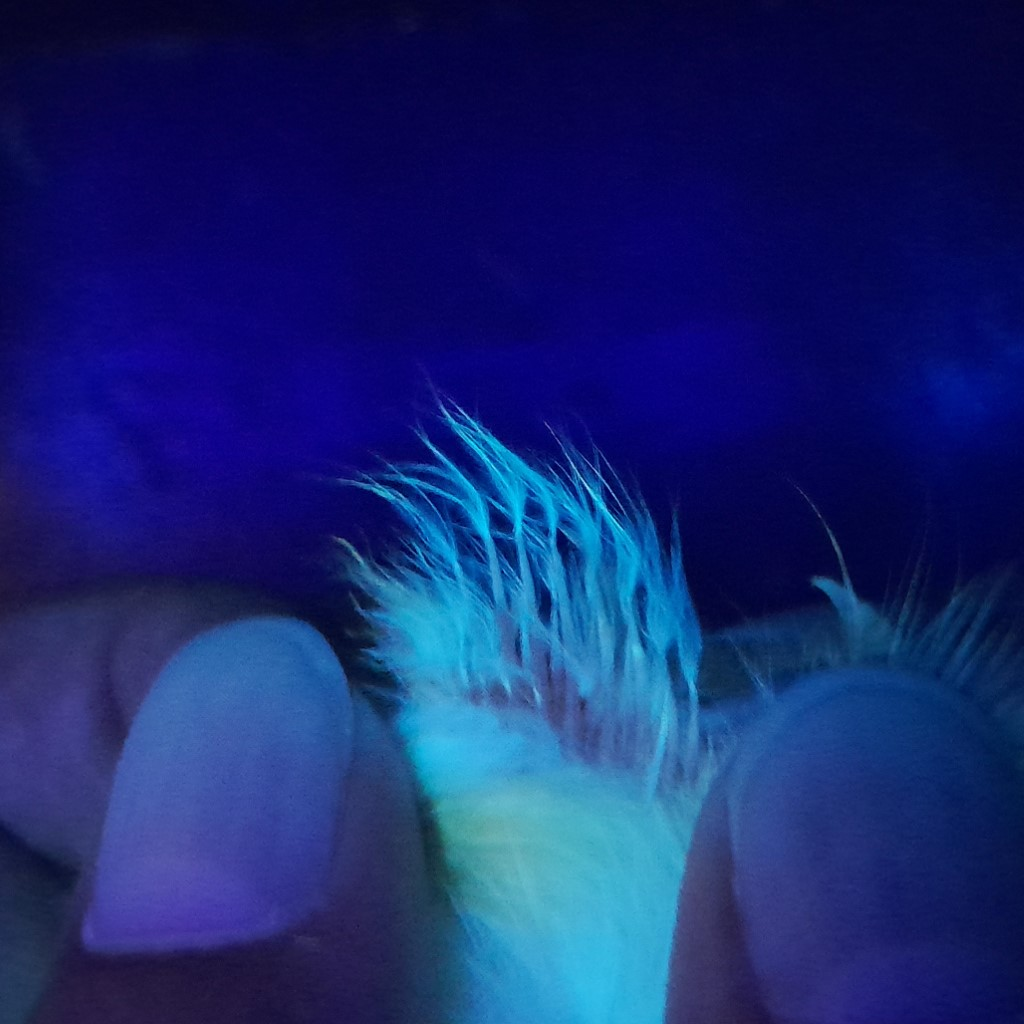male: (412, 510, 702, 822)
